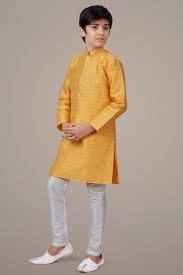Human: (46, 8, 120, 275)
